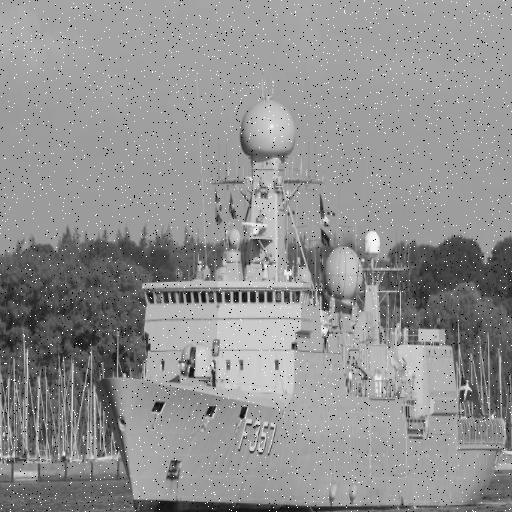Fragata: (90, 44, 512, 512)
